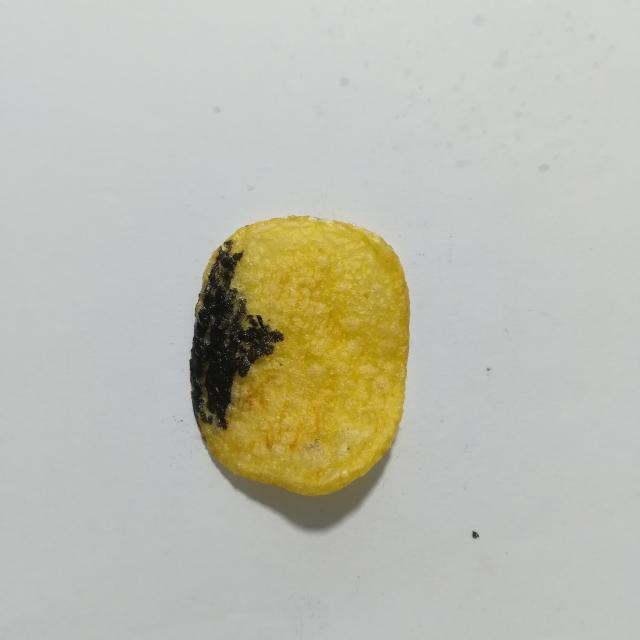chip: (189, 216, 410, 495)
damaged: (190, 240, 283, 429)
